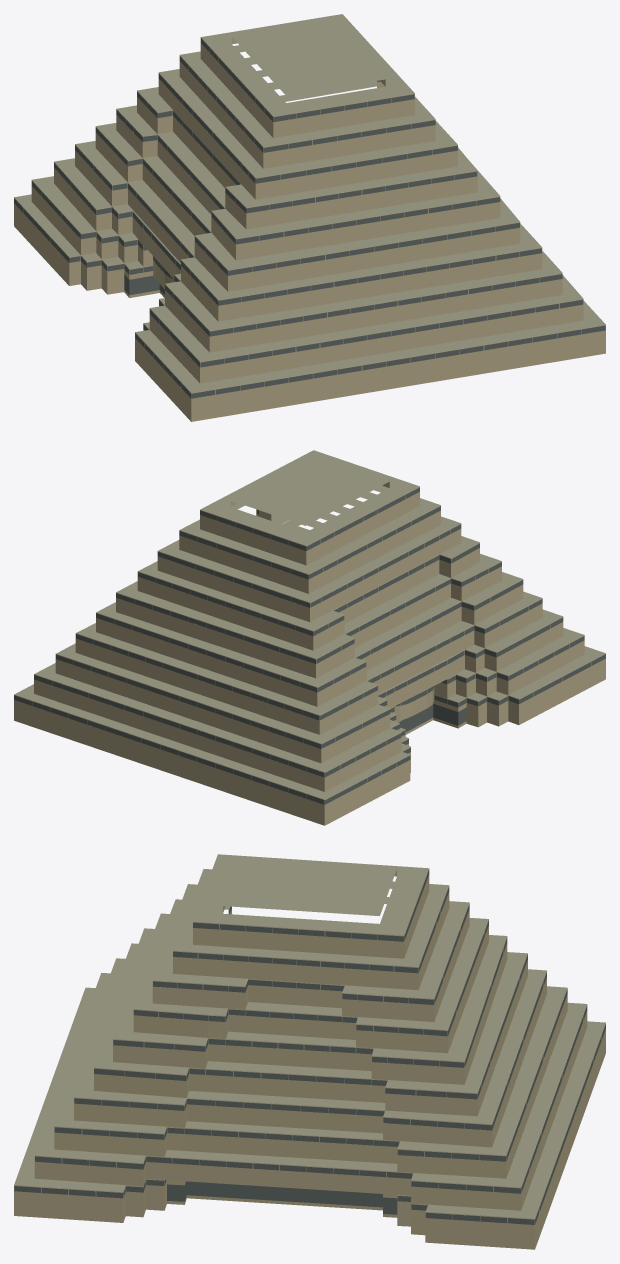
The model's file is ziggurat-west-sacramento-far.glb.
3 views of the same model, one above another, from view 1: azimuth 30°, elevation 25°; view 2: azimuth 150°, elevation 25°; view 3: azimuth 270°, elevation 25° (orthographic). The views are drawn at different scales.
Visible parts, largest first — view 1: ziggurat-west-sacramento-0-stone, ziggurat-west-sacramento-0-roof, ziggurat-west-sacramento-0-glass, ziggurat-west-sacramento-0-trim; view 2: ziggurat-west-sacramento-0-stone, ziggurat-west-sacramento-0-roof, ziggurat-west-sacramento-0-glass, ziggurat-west-sacramento-0-trim; view 3: ziggurat-west-sacramento-0-stone, ziggurat-west-sacramento-0-roof, ziggurat-west-sacramento-0-glass, ziggurat-west-sacramento-0-trim.
Part boxes in pixels (x1,y1,x2,y2): ziggurat-west-sacramento-0-stone: [14, 37, 605, 421]; ziggurat-west-sacramento-0-roof: [14, 14, 605, 392]; ziggurat-west-sacramento-0-glass: [14, 38, 605, 398]; ziggurat-west-sacramento-0-trim: [14, 37, 605, 398]; ziggurat-west-sacramento-0-stone: [14, 482, 605, 825]; ziggurat-west-sacramento-0-roof: [14, 450, 605, 799]; ziggurat-west-sacramento-0-glass: [14, 487, 605, 804]; ziggurat-west-sacramento-0-trim: [14, 486, 605, 804]; ziggurat-west-sacramento-0-stone: [14, 869, 605, 1249]; ziggurat-west-sacramento-0-roof: [14, 854, 605, 1218]; ziggurat-west-sacramento-0-glass: [14, 869, 605, 1224]; ziggurat-west-sacramento-0-trim: [14, 868, 605, 1224].
Bounding box in the file's own units: 96.62 × 48 × 104.
